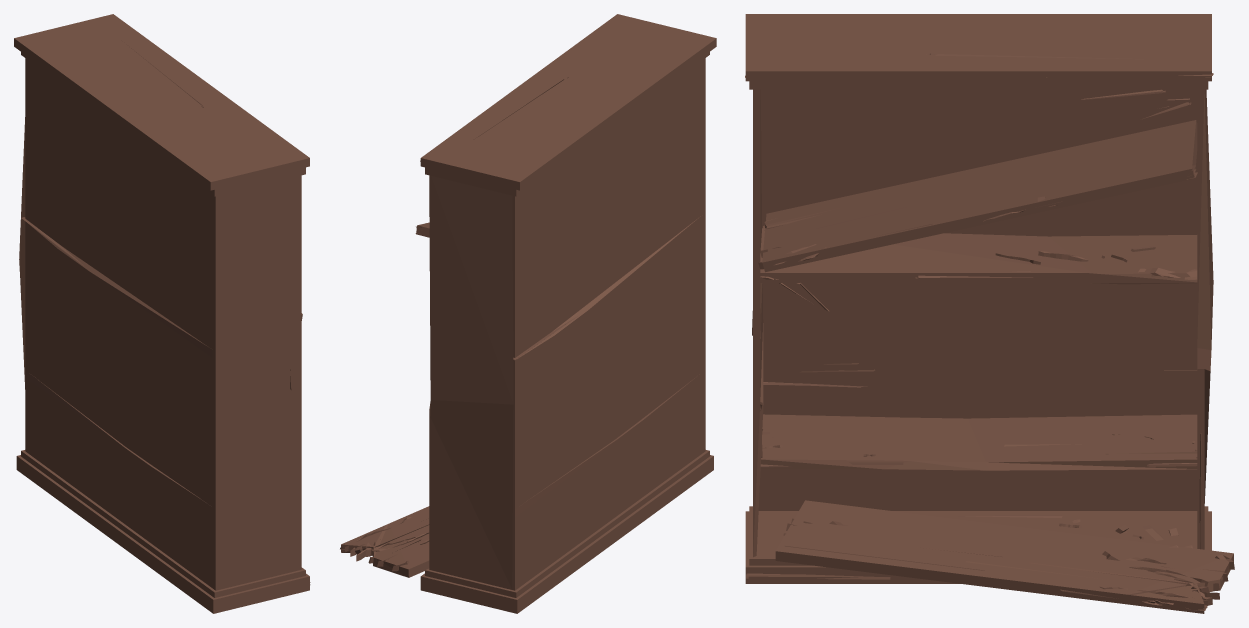
Rendered from Bookshelf.glb.
3 views of the same model, side by side, from view 1: azimuth 30°, elevation 25°; view 2: azimuth 150°, elevation 25°; view 3: azimuth 270°, elevation 25° (orthographic). The views are drawn at different scales.
Parts seen in each view (by area): view 1: group1236096718, group601020356, group867109627, group2035373360, group804261949, group1457230194, group85029991, group1992870748, group419263992; view 2: group1236096718, group1992870748, group867109627, group2035373360, group1465410725, group804261949, group1457230194, group85029991, group419263992; view 3: group1236096718, group867109627, group1465410725, group1736750755, group419263992, group85029991, group804261949, group1992870748, group1457230194, group601020356, group2035373360.
Part boxes in pixels (x1,y1,x2,y2): group1236096718: [25, 58, 220, 590]; group601020356: [221, 175, 301, 589]; group867109627: [14, 14, 309, 190]; group2035373360: [16, 455, 309, 613]; group804261949: [21, 450, 305, 597]; group1457230194: [21, 52, 305, 196]; group85029991: [21, 217, 212, 357]; group1992870748: [19, 117, 25, 389]; group419263992: [25, 370, 205, 502]; group1236096718: [512, 58, 705, 590]; group1992870748: [429, 175, 513, 589]; group867109627: [420, 14, 716, 190]; group2035373360: [420, 455, 713, 613]; group1465410725: [341, 506, 429, 577]; group804261949: [425, 450, 709, 597]; group1457230194: [425, 52, 709, 196]; group85029991: [513, 215, 702, 360]; group419263992: [432, 374, 699, 517]; group1236096718: [758, 89, 1197, 510]; group867109627: [745, 14, 1211, 81]; group1465410725: [775, 500, 1233, 613]; group1736750755: [762, 120, 1197, 272]; group419263992: [760, 414, 1197, 470]; group85029991: [760, 228, 1197, 284]; group804261949: [749, 506, 1208, 565]; group1992870748: [1197, 89, 1213, 549]; group1457230194: [749, 81, 1208, 89]; group601020356: [753, 89, 763, 557]; group2035373360: [745, 511, 1211, 583].
Size of the model in its own units: 0.6845 by 1.54 by 1.33.
